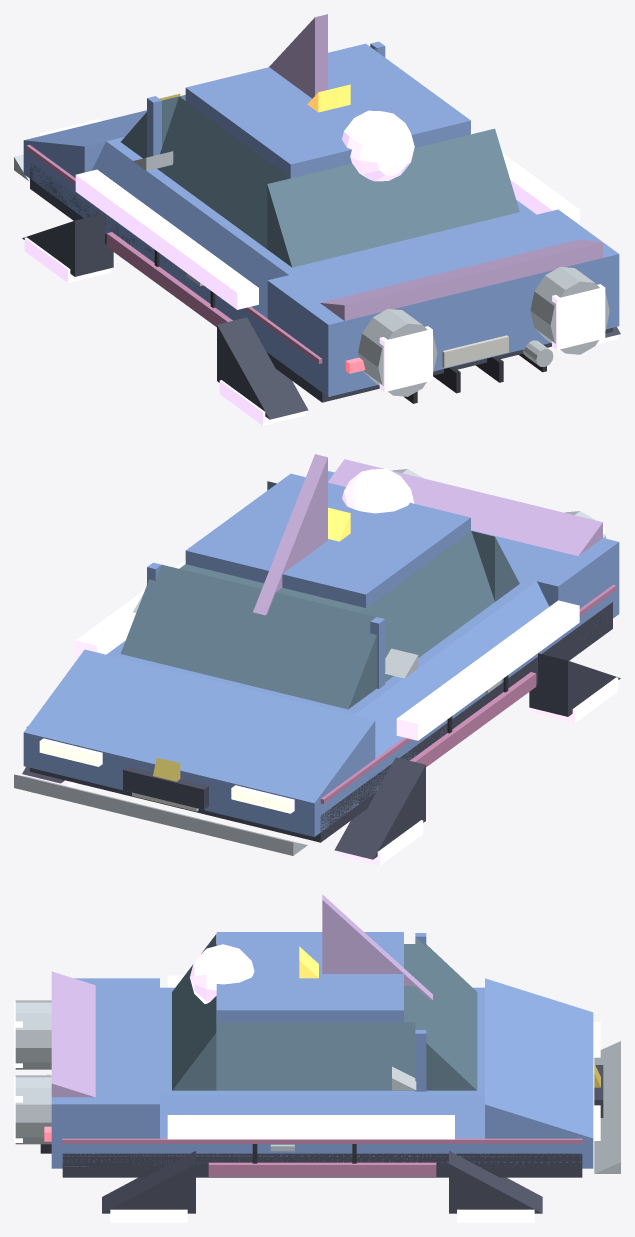
The model's file is cyber_crescent.glb.
3 renders of one model, top to bottom at view 1: azimuth 30°, elevation 25°; view 2: azimuth 150°, elevation 25°; view 3: azimuth 270°, elevation 25°, orthographic. The views are drawn at different scales.
Parts seen in each view (by area): view 1: Tail.115, RearWindow.215, Roof.315, Body.315, CabinSideL.112, Ducktail.078, FloatFin-1.057, ShoulderL.112, HoverPodWheel_RL.057, EnergyCore.057, BodyUpper.112, Nose.112 (+16 smaller); view 2: Nose.112, Windshield.215, Roof.315, Body.315, CabinSideL.112, Ducktail.078, ShoulderL.112, FloatFin-1.057, Sill.311, Tail.115, HoverPodWheel_FL.057, Bumper.311 (+17 smaller); view 3: Nose.112, CabinSideR.112, Roof.315, Tail.115, Sill.311, ShoulderR.112, Windshield.215, FloatFin1.057, Body.315, Ducktail.078, RearWindow.215, BridgeFin.017 (+15 smaller).
Part boxes in pixels (box(x1,y1,x2,y2)): Tail.115: box(267, 209, 619, 363); RearWindow.215: box(267, 128, 519, 267); Roof.315: box(185, 43, 470, 177); Body.315: box(23, 140, 619, 396); CabinSideL.112: box(157, 96, 290, 248); Ducktail.078: box(320, 239, 602, 320); FloatFin-1.057: box(75, 169, 258, 309); ShoulderL.112: box(92, 141, 288, 318); HoverPodWheel_RL.057: box(217, 317, 308, 419); EnergyCore.057: box(342, 110, 414, 181); BodyUpper.112: box(106, 137, 536, 274); Nose.112: box(24, 110, 146, 177); Nose.112: box(24, 649, 375, 803); Windshield.215: box(120, 564, 376, 709); Roof.315: box(185, 473, 470, 607); Body.315: box(23, 580, 619, 836); CabinSideL.112: box(359, 531, 494, 681); Ducktail.078: box(328, 459, 602, 555); ShoulderL.112: box(354, 581, 549, 758); FloatFin-1.057: box(396, 600, 579, 740); Sill.311: box(30, 602, 612, 842); Tail.115: box(328, 471, 619, 608); HoverPodWheel_FL.057: box(334, 757, 425, 859); Bumper.311: box(14, 774, 307, 855); Nose.112: box(485, 978, 593, 1138); CabinSideR.112: box(216, 1022, 415, 1090); Roof.315: box(216, 932, 403, 1022); Tail.115: box(51, 978, 159, 1138); Sill.311: box(62, 1153, 582, 1177); ShoulderR.112: box(160, 1095, 484, 1138); Windshield.215: box(415, 937, 477, 1090); FloatFin1.057: box(167, 1115, 454, 1139); Body.315: box(51, 1138, 593, 1168); Ducktail.078: box(51, 971, 95, 1097); RearWindow.215: box(172, 934, 216, 1090); BridgeFin.017: box(322, 894, 432, 999).
Bounding box in the file's own units: 3.3 × 2.48 × 5.49.
